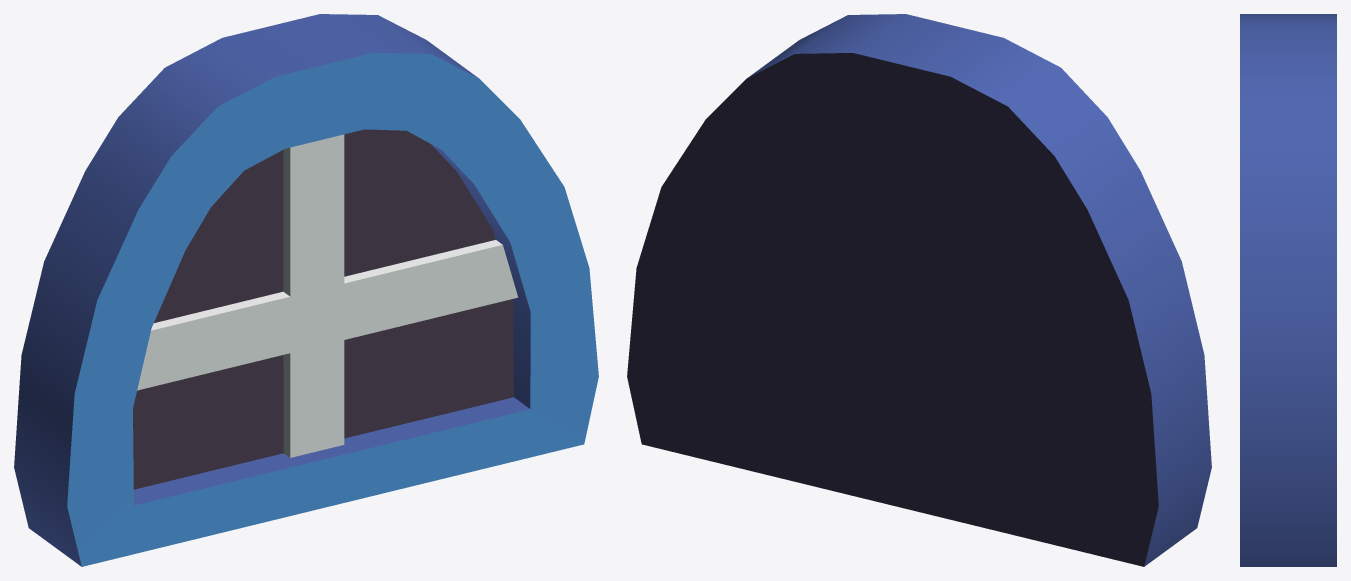
The model's file is Window03_Blue_White.glb.
3 views of the same model, side by side, from view 1: azimuth 30°, elevation 25°; view 2: azimuth 150°, elevation 25°; view 3: azimuth 270°, elevation 25° (orthographic). The views are drawn at different scales.
Parts seen in each view (by area): view 1: Window03_Blue_White; view 2: Window03_Blue_White; view 3: Window03_Blue_White.
Boxes of the visible parts, x1,y1,x2,y2 form: Window03_Blue_White: (14,14,598,566); Window03_Blue_White: (627,14,1211,566); Window03_Blue_White: (1240,14,1336,566).
Bounding box in the file's own units: 0.9047 × 0.7203 × 0.1565.
1 material, 1 textured.
